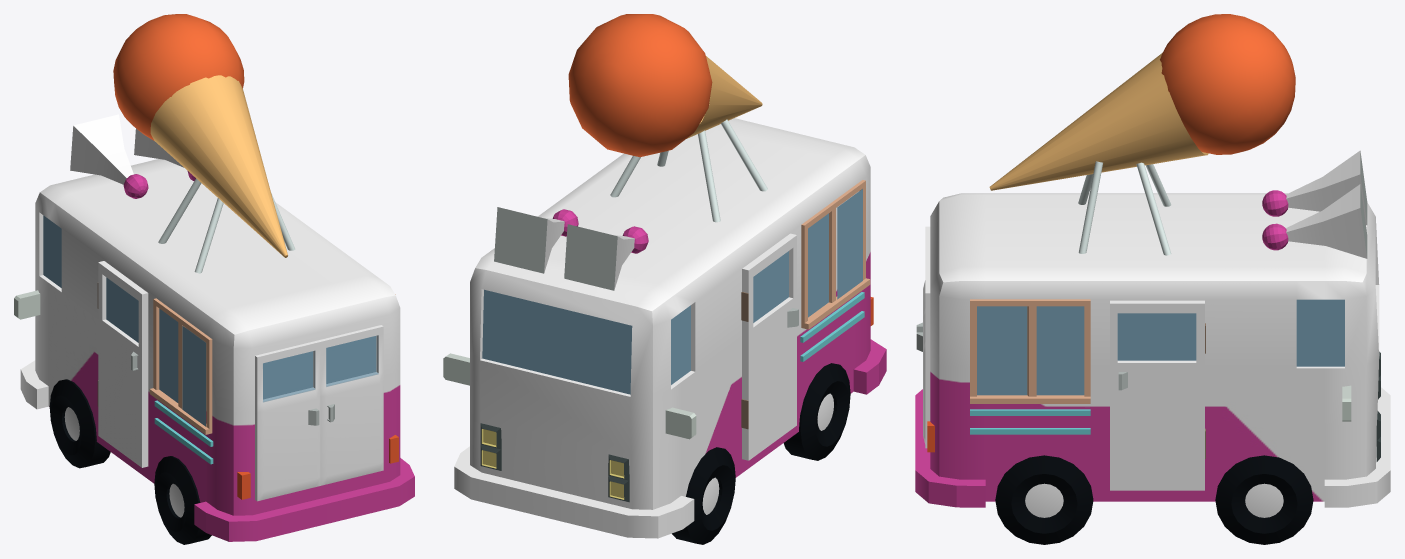
File: xebankem.fbx
The picture shows the model from 3 angles, left to right: view 1: azimuth 30°, elevation 25°; view 2: azimuth 150°, elevation 25°; view 3: azimuth 270°, elevation 25°; orthographic projection. The views are drawn at different scales.
Parts seen in each view (by area): view 1: models_f4:models_f4:models_f3:models_f2:models_f2:models_f2:, models_f4:models_f4:models_f3:models_f2:models_f2:wheel, models_f4:models_f4:models_f3:models_f2:models_f2:wheel1; view 2: models_f4:models_f4:models_f3:models_f2:models_f2:models_f2:, models_f4:models_f4:models_f3:models_f2:models_f2:wheel1, models_f4:models_f4:models_f3:models_f2:models_f2:wheel; view 3: models_f4:models_f4:models_f3:models_f2:models_f2:models_f2:, models_f4:models_f4:models_f3:models_f2:models_f2:wheel2, models_f4:models_f4:models_f3:models_f2:models_f2:wheel3.
Part boxes in pixels (left/top/right/bottom): models_f4:models_f4:models_f3:models_f2:models_f2:models_f2:: left=14, top=14, right=414, bottom=541; models_f4:models_f4:models_f3:models_f2:models_f2:wheel: left=49, top=379, right=110, bottom=468; models_f4:models_f4:models_f3:models_f2:models_f2:wheel1: left=154, top=456, right=211, bottom=544; models_f4:models_f4:models_f3:models_f2:models_f2:models_f2:: left=443, top=14, right=886, bottom=538; models_f4:models_f4:models_f3:models_f2:models_f2:wheel1: left=783, top=363, right=850, bottom=460; models_f4:models_f4:models_f3:models_f2:models_f2:wheel: left=672, top=447, right=735, bottom=544; models_f4:models_f4:models_f3:models_f2:models_f2:models_f2:: left=915, top=14, right=1390, bottom=507; models_f4:models_f4:models_f3:models_f2:models_f2:wheel2: left=1215, top=455, right=1313, bottom=544; models_f4:models_f4:models_f3:models_f2:models_f2:wheel3: left=995, top=455, right=1093, bottom=544.
Bounding box in the file's own units: 3.3 × 6.12 × 5.56.
